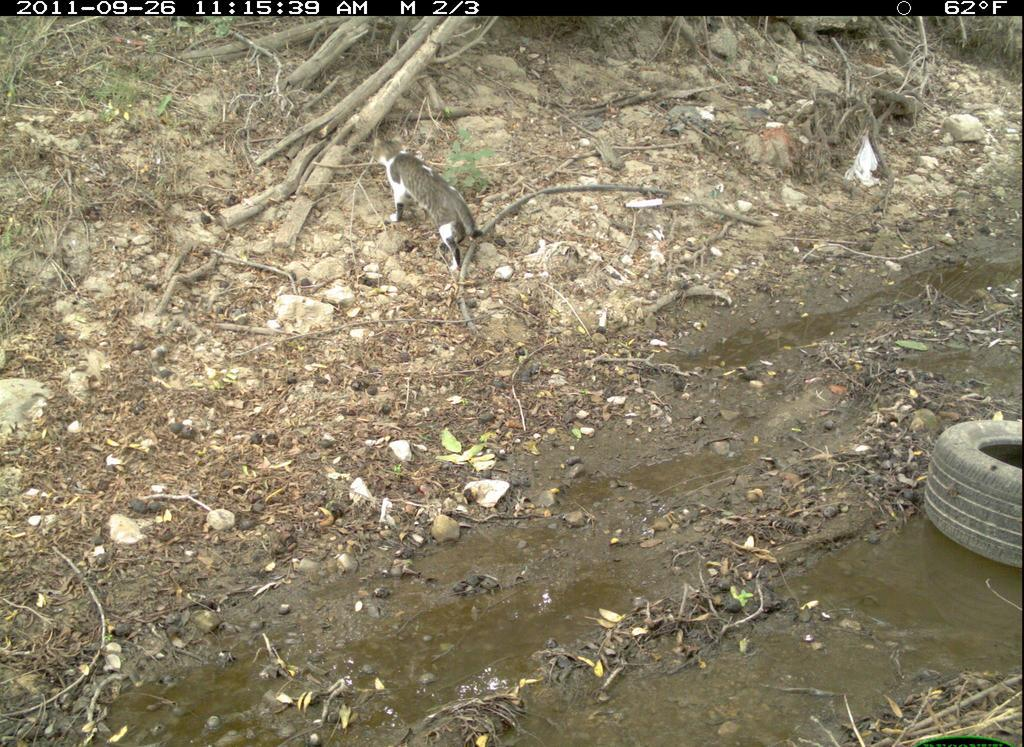cat: (364, 126, 489, 277)
